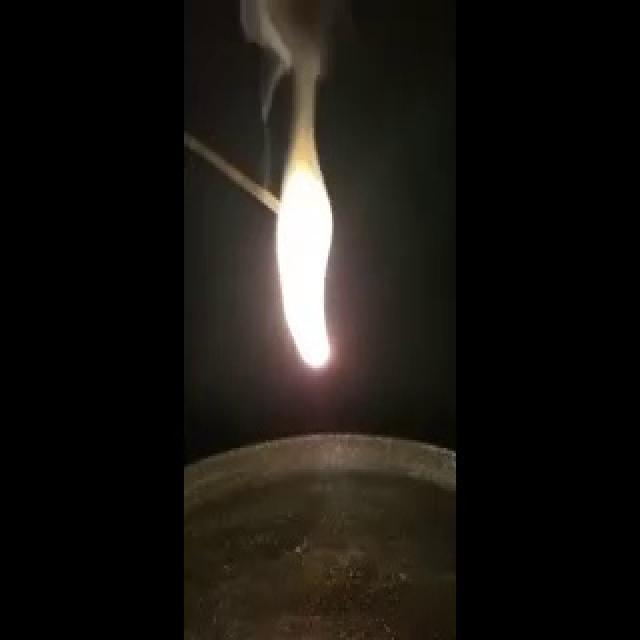Fire: (263, 70, 343, 374)
